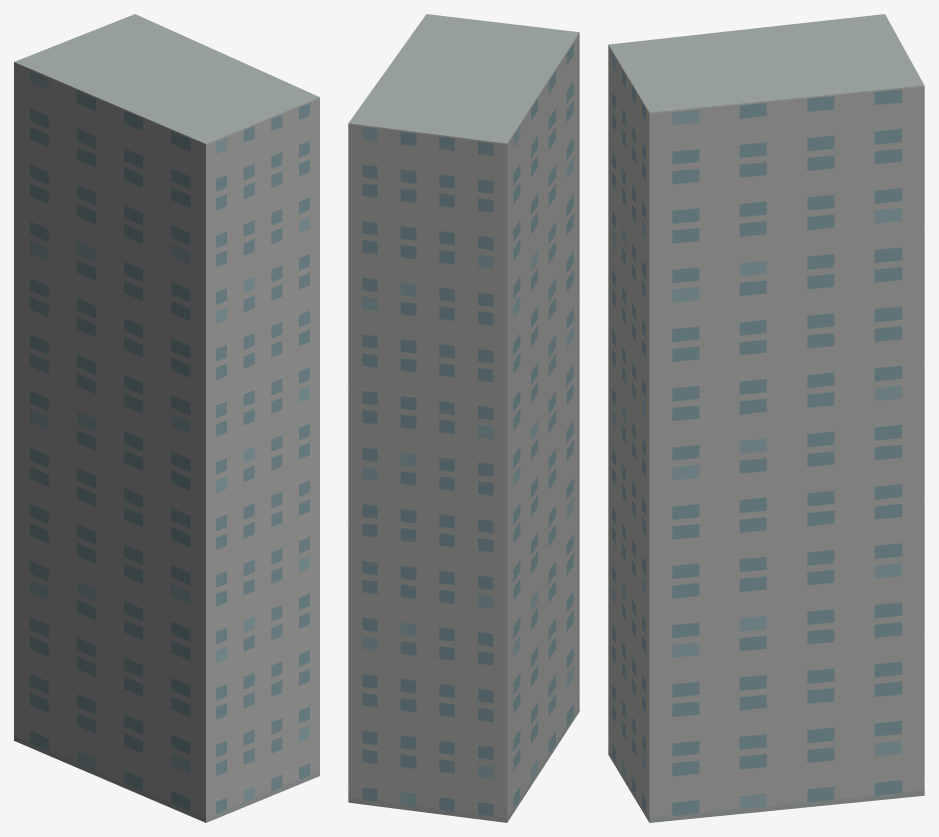
Rendered from survey-upis-32997988.glb.
3 views of the same model, side by side, from view 1: azimuth 30°, elevation 25°; view 2: azimuth 150°, elevation 25°; view 3: azimuth 270°, elevation 25° (orthographic). The views are drawn at different scales.
Parts seen in each view (by area): view 1: survey-upis-32997988.tmp; view 2: survey-upis-32997988.tmp; view 3: survey-upis-32997988.tmp.
Boxes of the visible parts, x1,y1,x2,y2 form: survey-upis-32997988.tmp: [14, 14, 319, 822]; survey-upis-32997988.tmp: [348, 14, 579, 822]; survey-upis-32997988.tmp: [608, 14, 924, 822].
Bounding box in the file's own units: 32.74 × 110 × 44.31.
